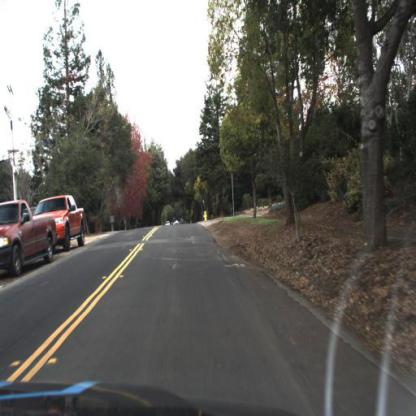car: (0, 198, 55, 279), (50, 192, 85, 258)
